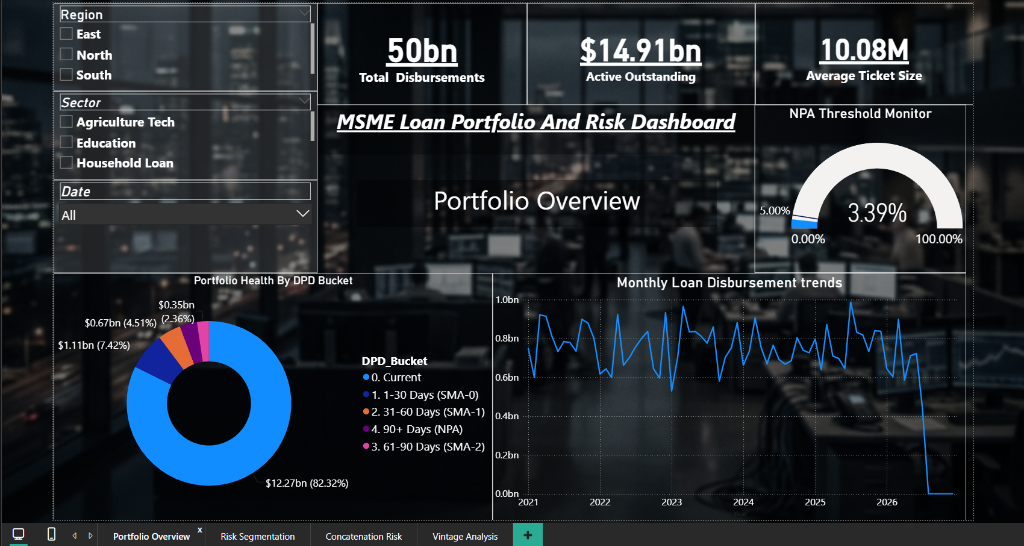

The dashboard page shown, as its layout file describes it:
{"tool":"powerbi","page":{"name":"Portfolio Overview","canvas":[1920,1080],"ordinal":0},"visuals":[{"type":"textbox","box":[0,0,549.3,106.3],"z":0},{"type":"card","fields":{"Values":["Sum(MSME_Loan_Portfolio.Loan_Amount)"]},"box":[1585,0,335,212.5],"z":1},{"type":"card","fields":{"Values":["MSME_Loan_Portfolio.Total_Outstanding"]},"box":[1284.2,0,300.8,212.5],"z":2},{"type":"card","fields":{"Values":["Avg(MSME_Loan_Portfolio.Loan_Amount)"]},"box":[992.4,0,291.8,212.5],"z":3},{"type":"kpi","title":"NPA Rate Trend","fields":{"TrendLine":["Calendar.Date"],"Goal":["MSME_Loan_Portfolio.Target_NPA"],"Indicator":["MSME_Loan_Portfolio.NPA_%"]},"box":[549.3,0,443.1,187.3],"z":4},{"type":"lineChart","title":"Monthly Loan Disbursement trends","fields":{"Category":["Calendar.Date.Variation.Date Hierarchy.Year","Calendar.Date.Variation.Date Hierarchy.Month"],"Y":["Sum(MSME_Loan_Portfolio.Loan_Amount)"]},"box":[916.8,563.8,988.8,516.9],"z":5},{"type":"donutChart","title":"Portfolio Health By DPD Bucket","fields":{"Category":["MSME_Loan_Portfolio.DPD_Bucket"],"Y":["MSME_Loan_Portfolio.Total_Outstanding"]},"box":[0,563.8,916.8,516.9],"z":6},{"type":"gauge","title":"NPA Threshold Monitor","fields":{"Y":["MSME_Loan_Portfolio.NPA_%"],"TargetValue":["MSME_Loan_Portfolio.Target_NPA"]},"box":[1464.3,212.5,441.3,351.2],"z":8}]}

Visuals, with their boxes on the page's 1920x1080 design canvas (x1, y1, x2, y2). These are canvas units, not pixel positions in the 1024x546 screenshot, which may show the page scaled, cropped or inside an application window:
textbox: [0, 0, 549, 106]
card - Sum(MSME_Loan_Portfolio.Loan_Amount): [1585, 0, 1920, 212]
card - MSME_Loan_Portfolio.Total_Outstanding: [1284, 0, 1585, 212]
card - Avg(MSME_Loan_Portfolio.Loan_Amount): [992, 0, 1284, 212]
"NPA Rate Trend" kpi: [549, 0, 992, 187]
"Monthly Loan Disbursement trends" lineChart: [917, 564, 1906, 1081]
"Portfolio Health By DPD Bucket" donutChart: [0, 564, 917, 1081]
"NPA Threshold Monitor" gauge: [1464, 212, 1906, 564]
